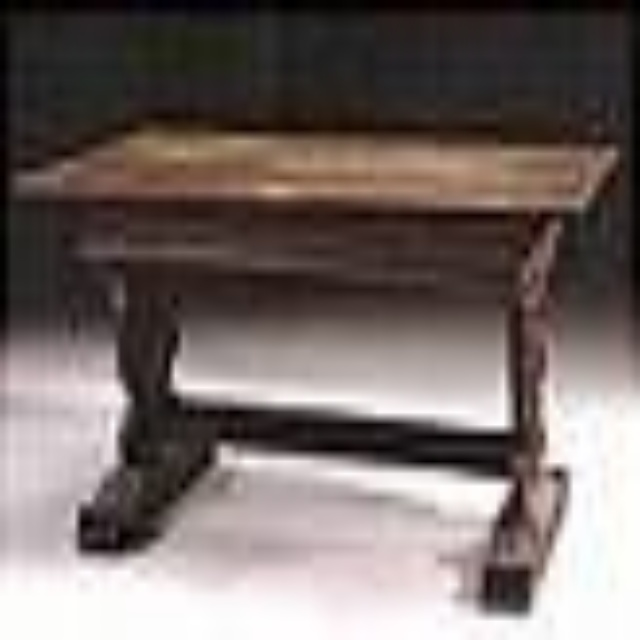obstacle: (8, 135, 617, 603)
